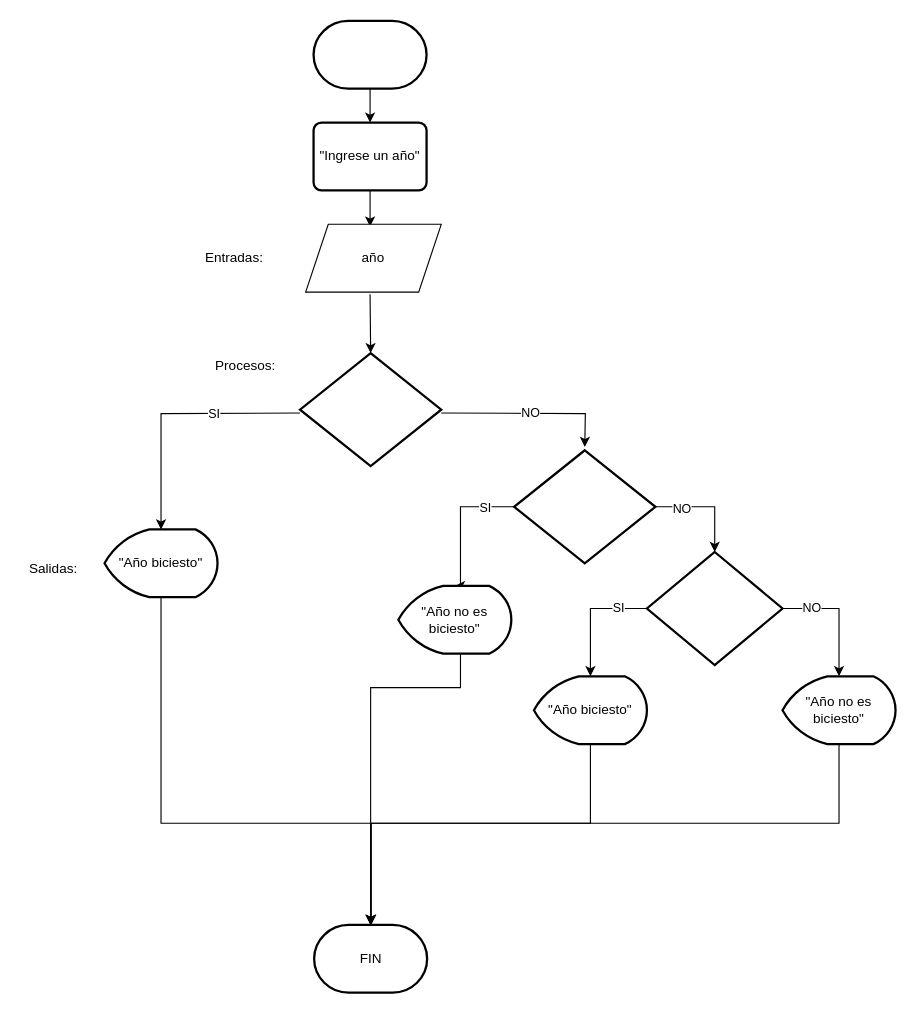
This 915x1012 diagram has some shape labels left out. The centre of each missing label's shape, as x and y in pixels:
año % 100 == 0: point (584, 506)
año % 4 == 0: point (714, 608)
año % 400 == 0: point (370, 409)
INICIO: point (369, 54)
